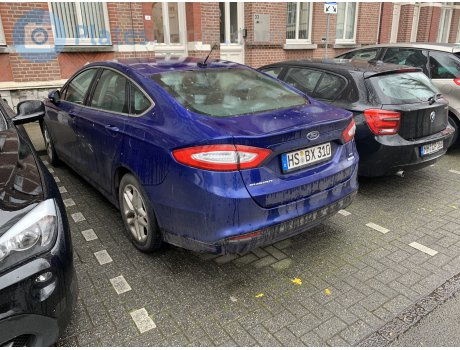License Plates: (285, 150, 333, 166)
